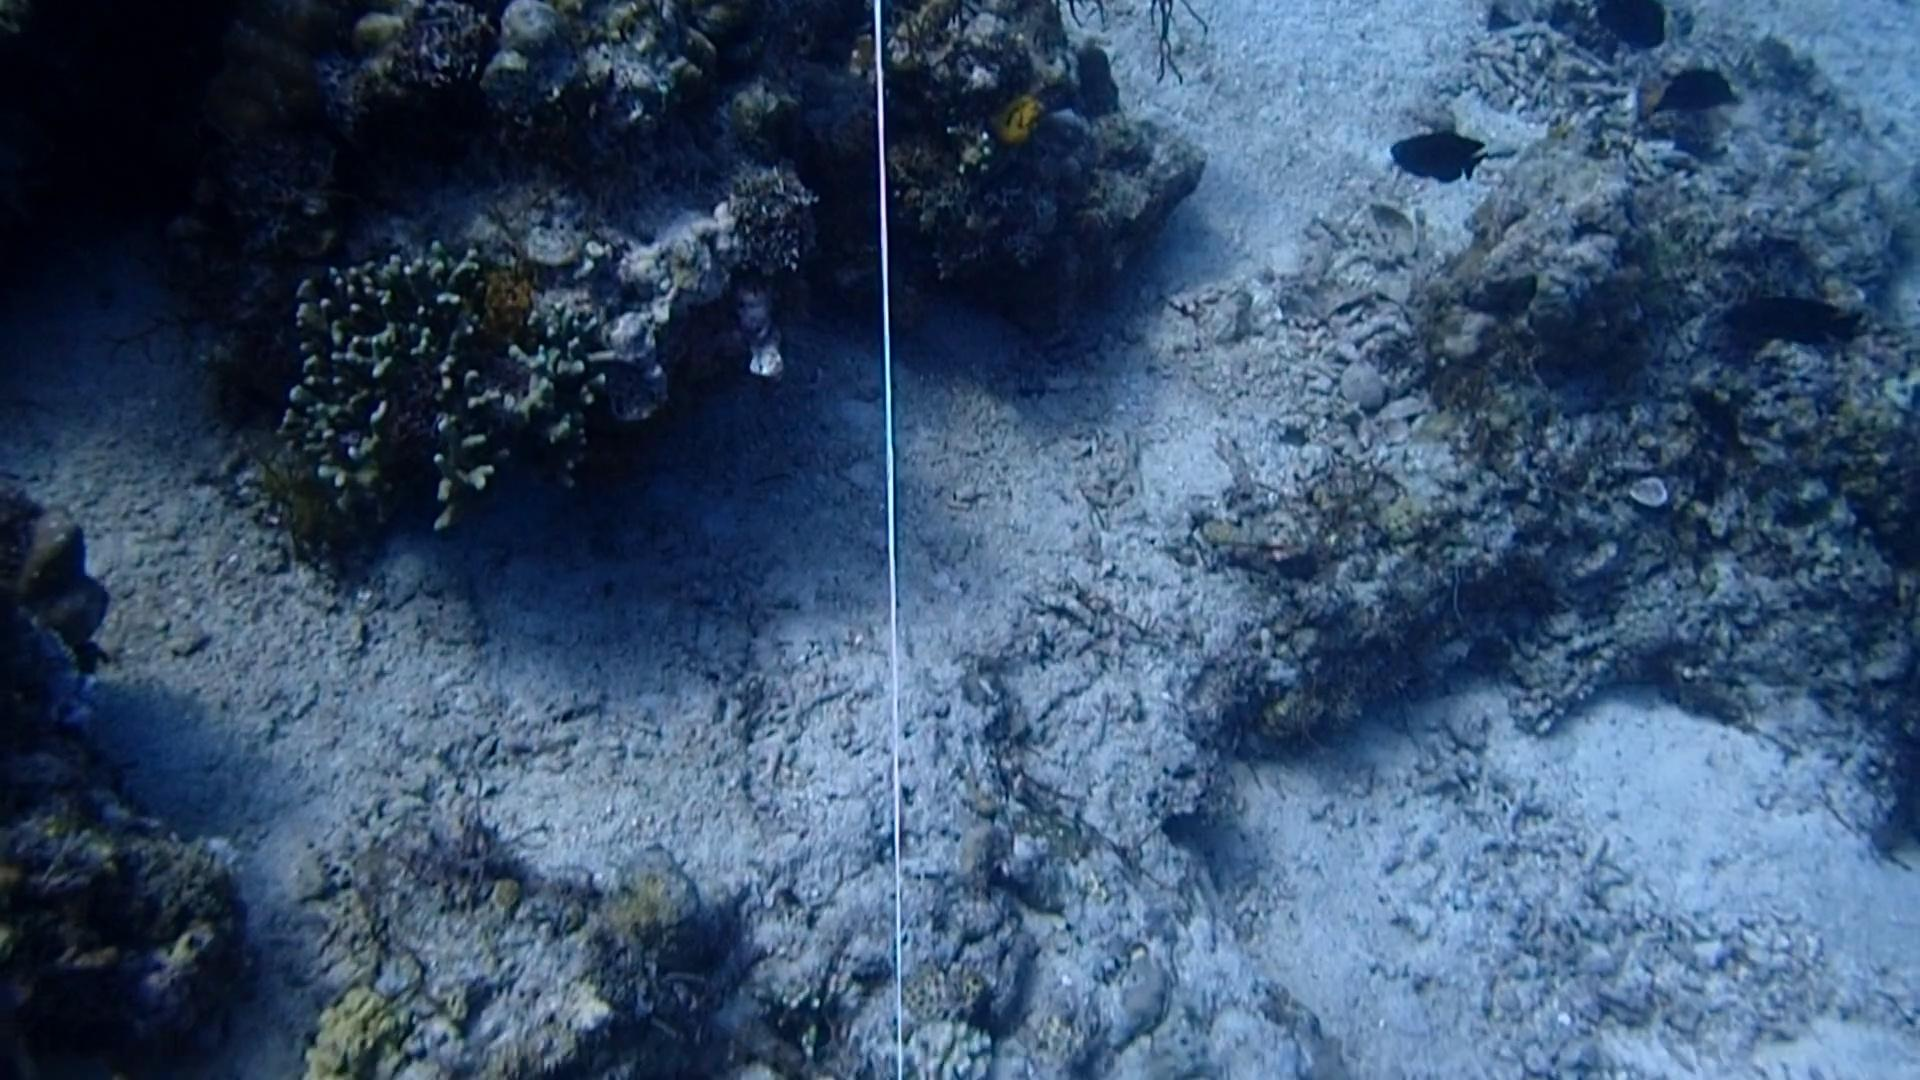Dark Fish: (1709, 289, 1874, 355), (1381, 120, 1495, 191), (1651, 61, 1747, 119), (1680, 380, 1747, 455), (1588, 0, 1672, 51)
